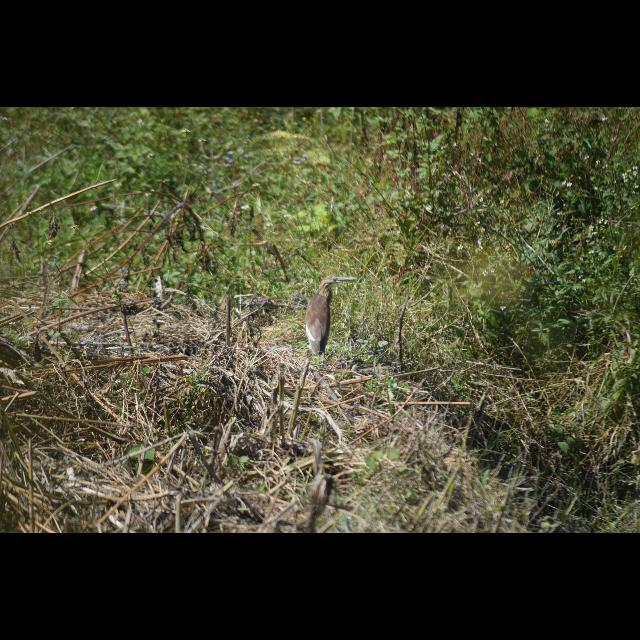heron: (306, 274, 360, 362)
